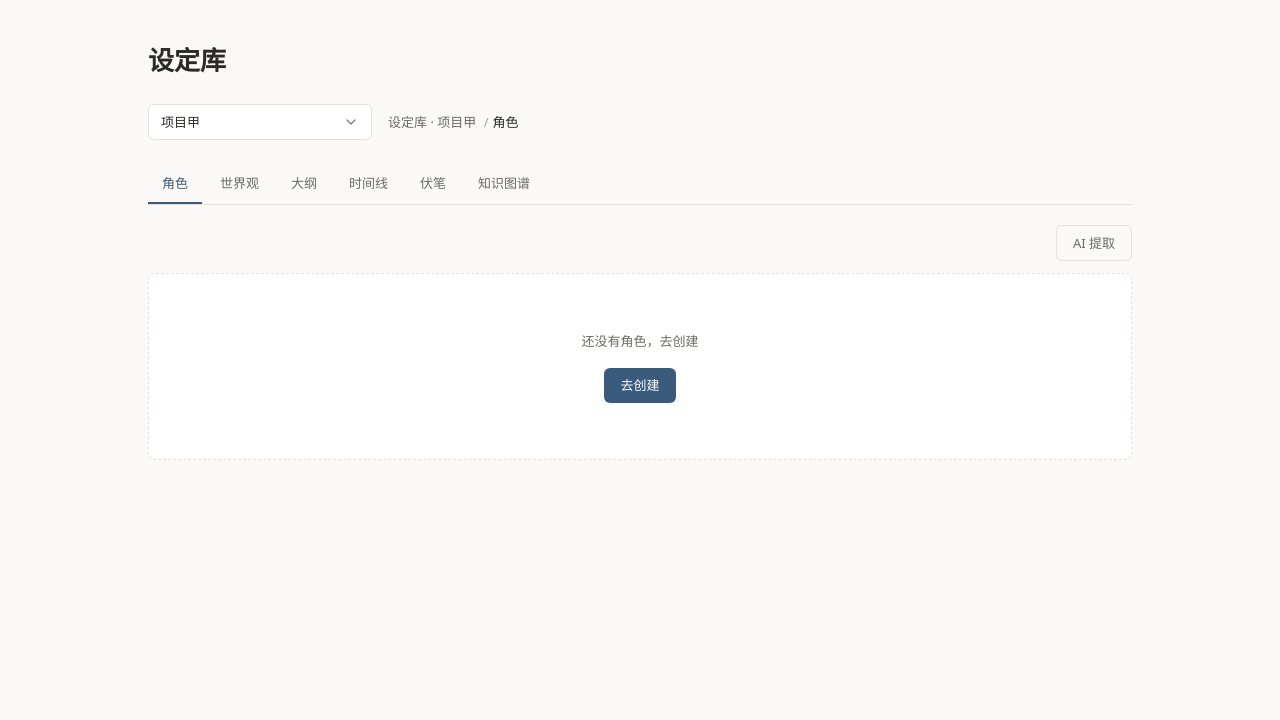
Test case: #649 大纲子项写操作（情节节点/故事弧 CRUD + AI 生成） › T1 情节节点创建：章行「＋情节点」→ 对话框 → 保存 → POST /outlines/c1/plot-points → 新点出现
Click the tab "大纲" at {"x": 304, "y": 184}, box [277,164,331,204]
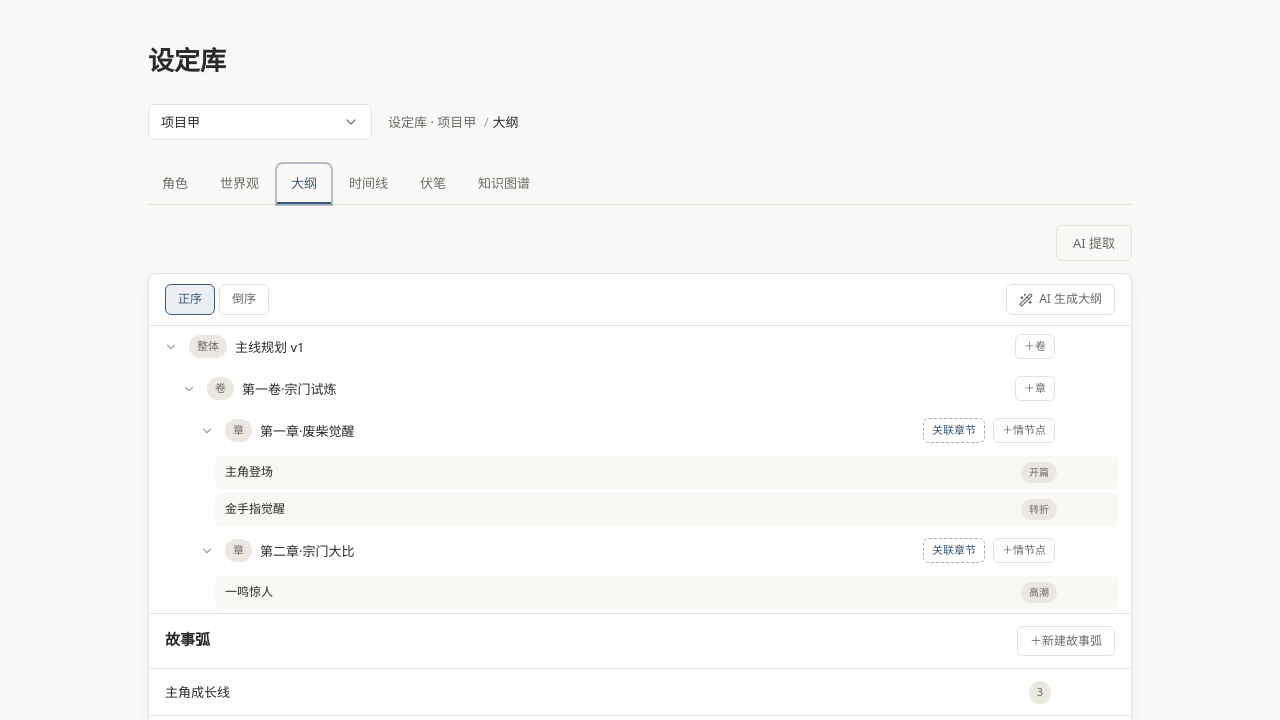
Result: the element with test id "outline-tree" is shown at [149,326,1131,613]
Click the button with test id "outline-add-point-c1" at {"x": 1024, "y": 431}, box [993,418,1055,443]
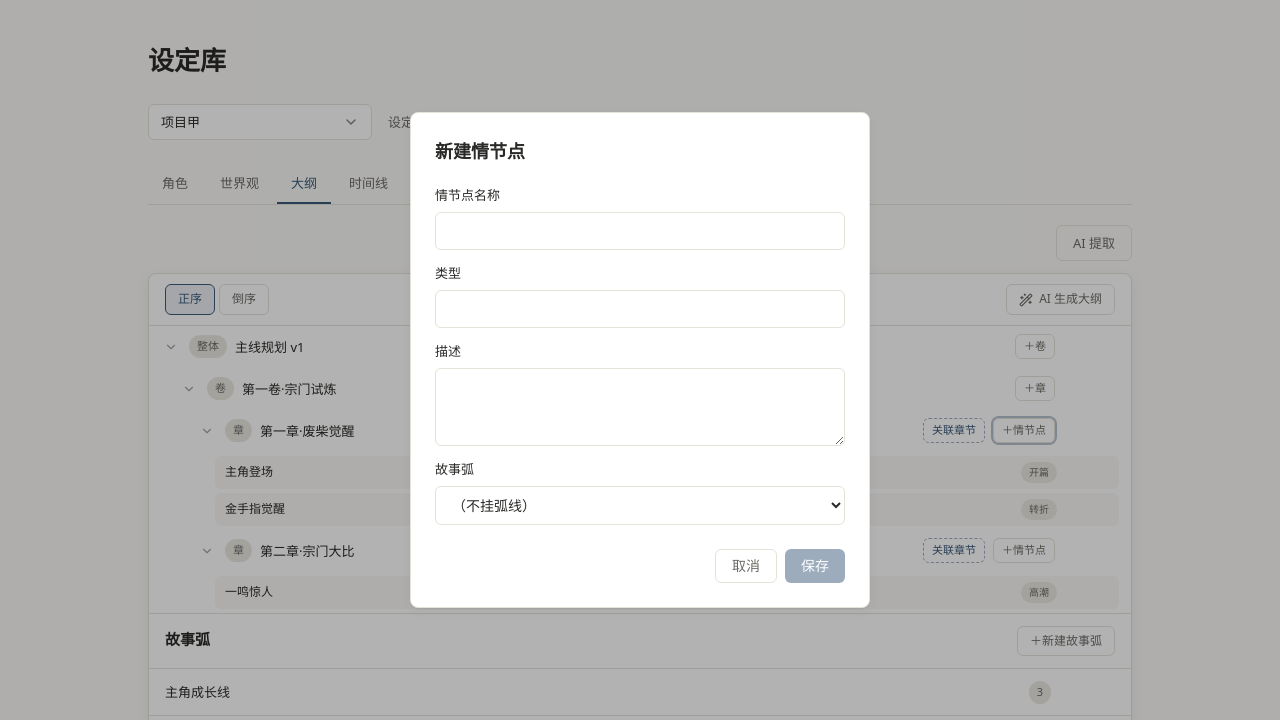
Type "拜师立誓" into the field with test id "outline-point-name" at {"x": 640, "y": 231}, box [435,212,845,250]
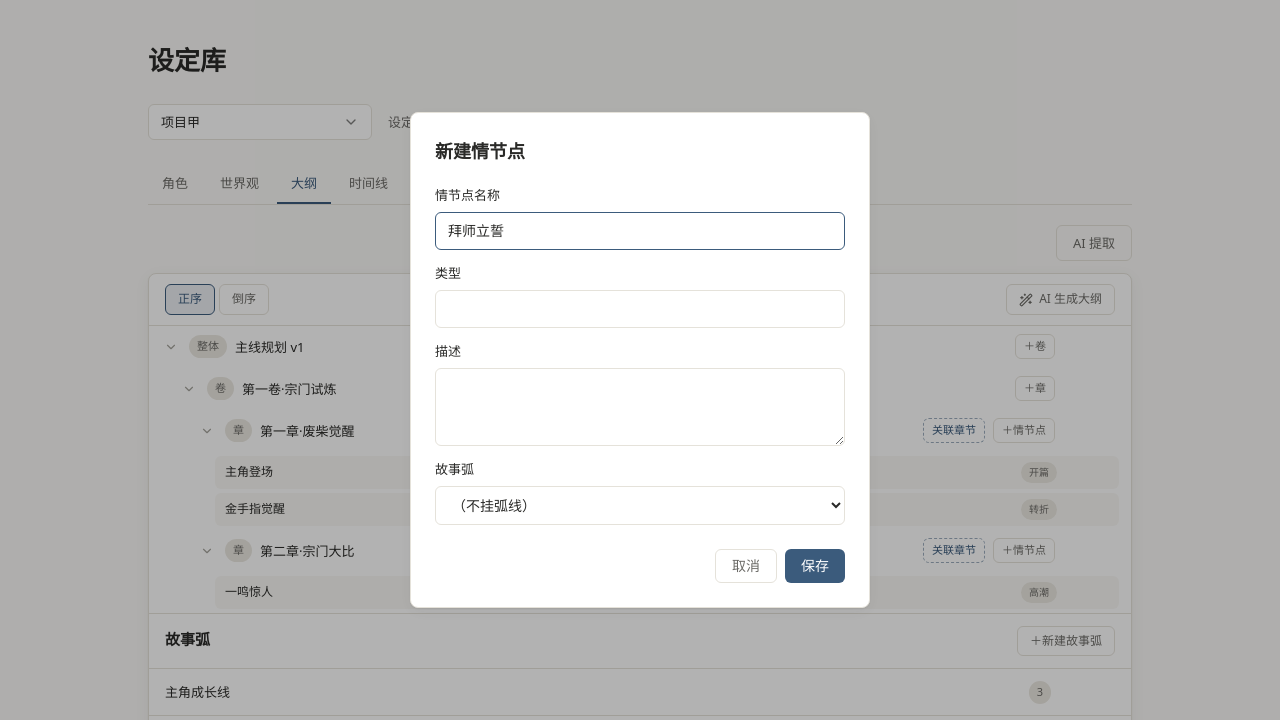
Click the button with test id "outline-point-save" at {"x": 815, "y": 566}, box [785,549,845,583]
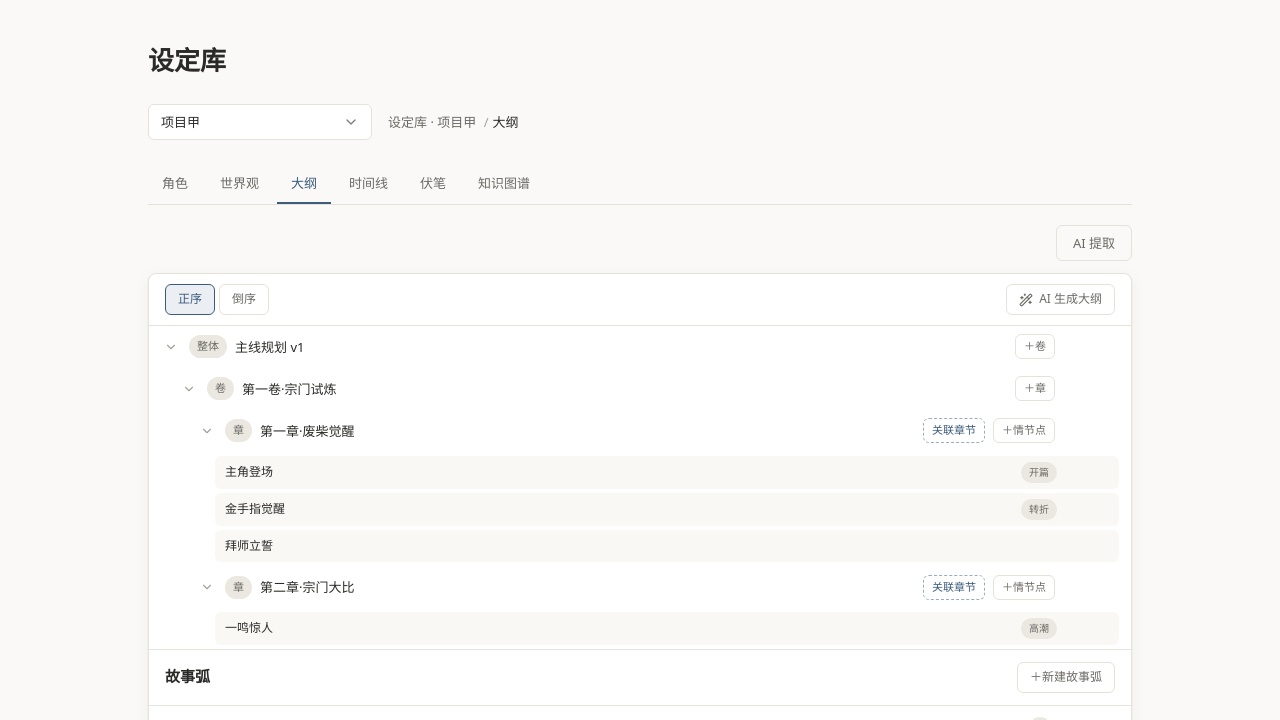
Result: the text "拜师立誓" is shown at [225,537,273,554]
